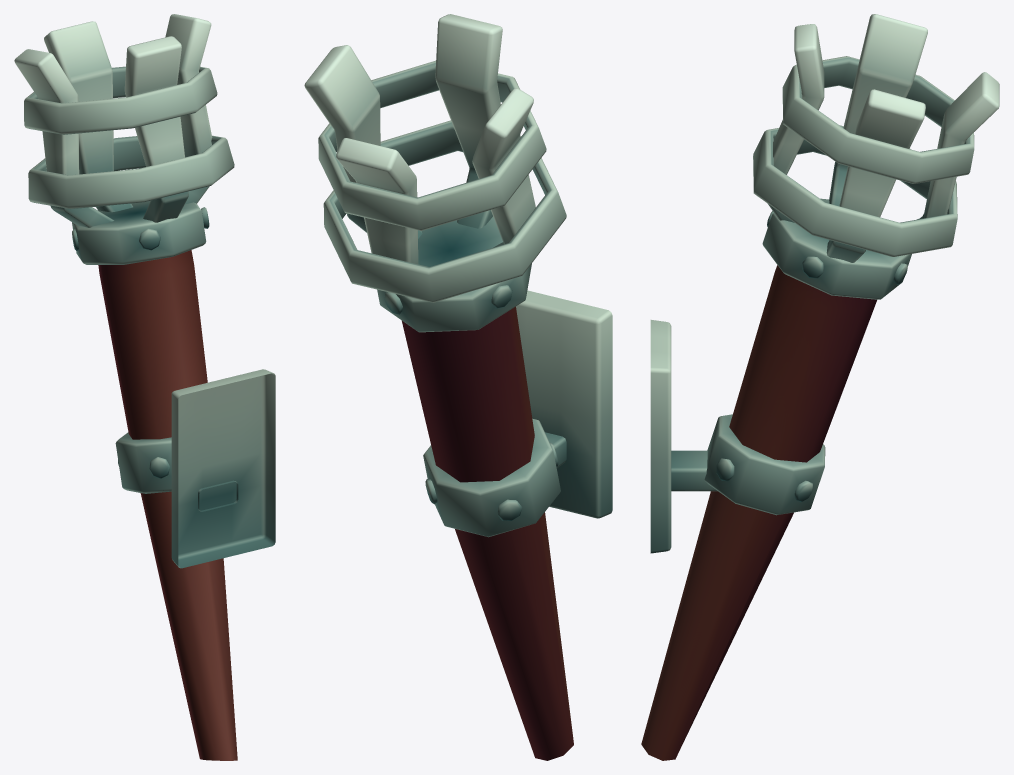
File: SM_irontorch_002.fbx
The picture shows the model from 3 angles, left to right: view 1: azimuth 30°, elevation 25°; view 2: azimuth 150°, elevation 25°; view 3: azimuth 270°, elevation 25°; orthographic projection. The views are drawn at different scales.
Visible parts, largest first — view 1: SM_irontorch_002; view 2: SM_irontorch_002; view 3: SM_irontorch_002.
Part boxes in pixels (box(x1,y1,x2,y2)): SM_irontorch_002: box(14, 14, 275, 760); SM_irontorch_002: box(304, 14, 612, 760); SM_irontorch_002: box(641, 14, 999, 760).
Bounding box in the file's own units: 28.79 × 107 × 48.27.
